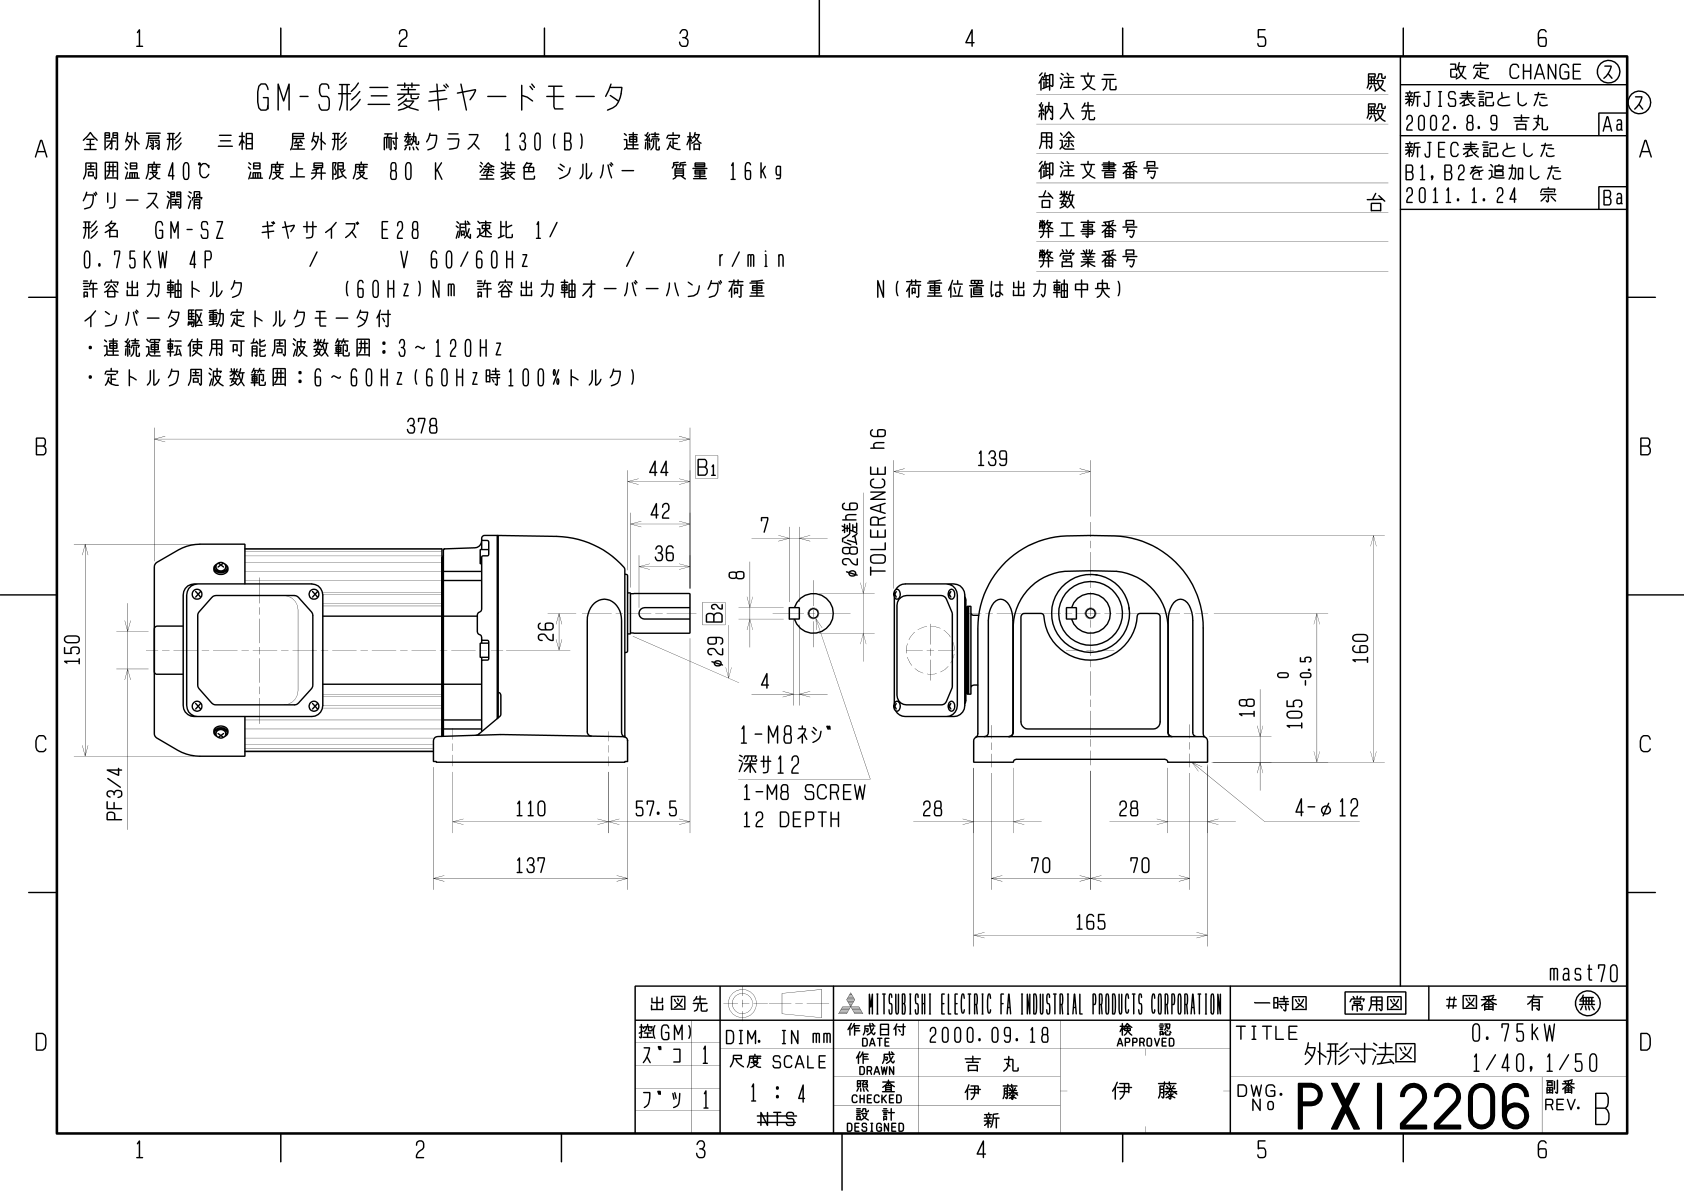GM_S_インバタ屋外＿三相_脚: (1, 10, 1671, 1179)
